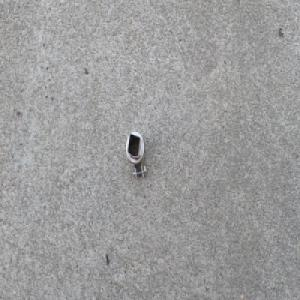MetalPart: (125, 129, 148, 182)
